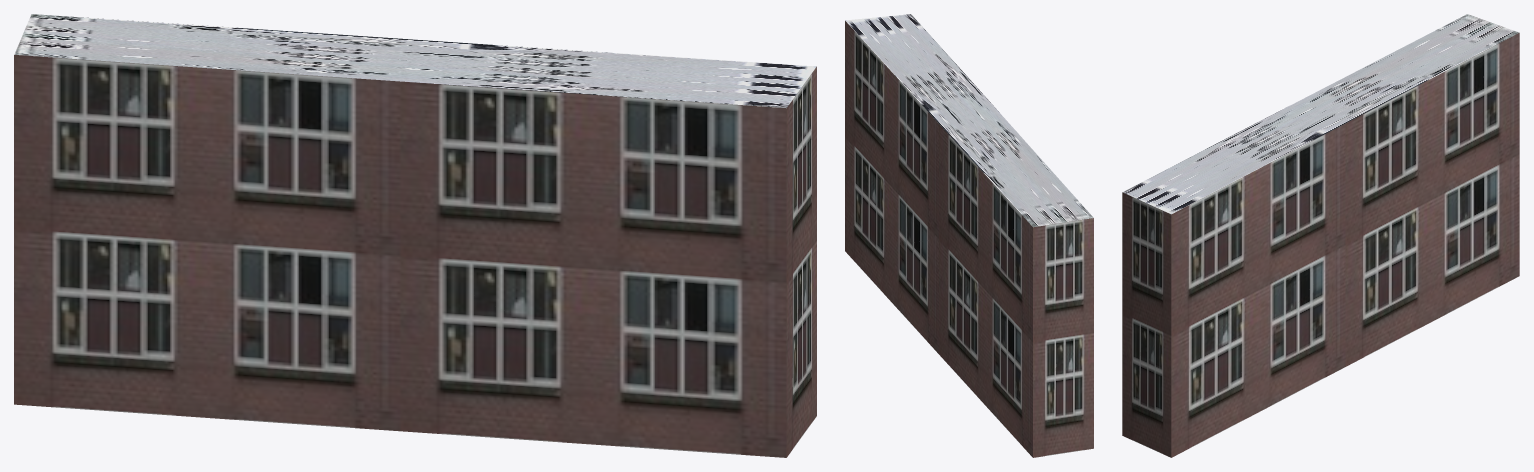
Rendered from ResTex__2493.fbx.
The picture shows the model from 3 angles, left to right: view 1: azimuth 30°, elevation 25°; view 2: azimuth 150°, elevation 25°; view 3: azimuth 270°, elevation 25°; orthographic projection. The views are drawn at different scales.
Visible parts, largest first — view 1: CityEngineMaterial_12_m, CityEngineMaterial_8_m; view 2: CityEngineMaterial_12_m, CityEngineMaterial_8_m; view 3: CityEngineMaterial_12_m, CityEngineMaterial_8_m.
Part boxes in pixels (<box>): CityEngineMaterial_12_m: <box>14,55,816,457</box>; CityEngineMaterial_8_m: <box>14,14,816,108</box>; CityEngineMaterial_12_m: <box>845,21,1093,457</box>; CityEngineMaterial_8_m: <box>845,14,1093,227</box>; CityEngineMaterial_12_m: <box>1122,33,1519,457</box>; CityEngineMaterial_8_m: <box>1123,14,1519,214</box>.
Size of the model in its own units: 10.59 by 6 by 8.87.
Materials: 2 (2 with a texture image).
